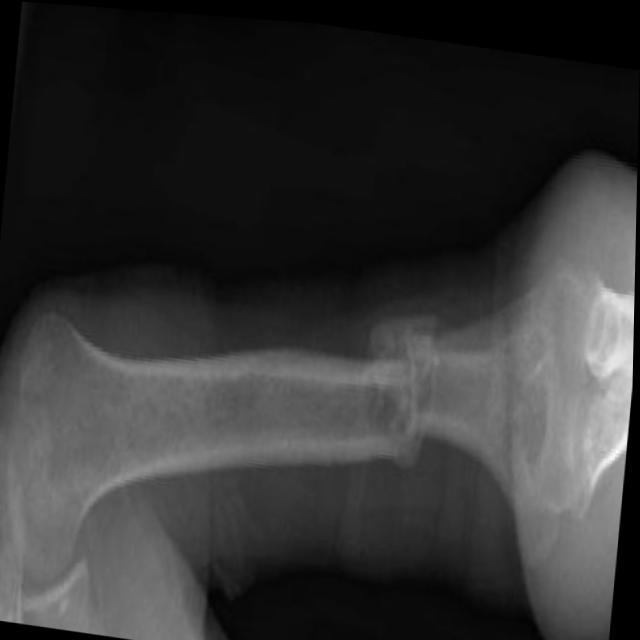fracture: (355, 277, 458, 508)
